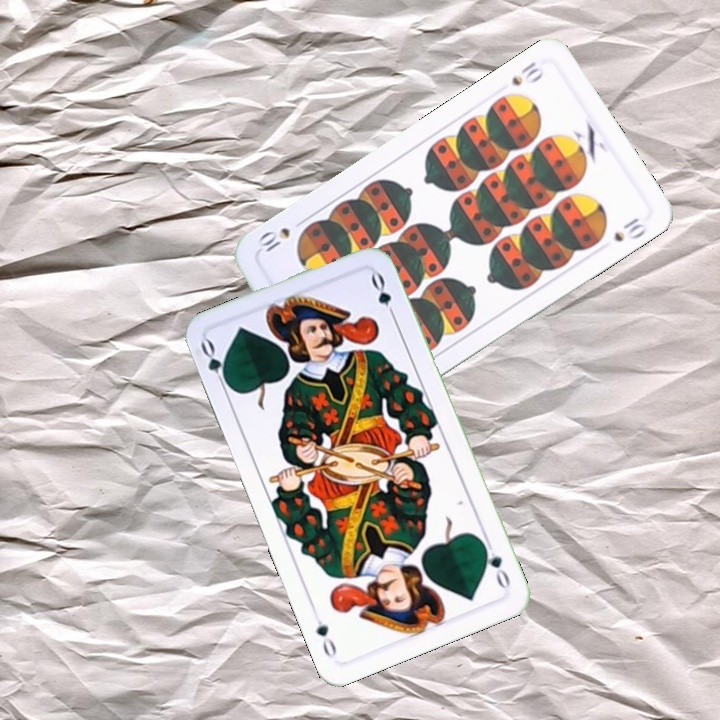GO: (196, 335, 233, 393), (478, 535, 513, 593)
S10: (507, 57, 547, 89)
